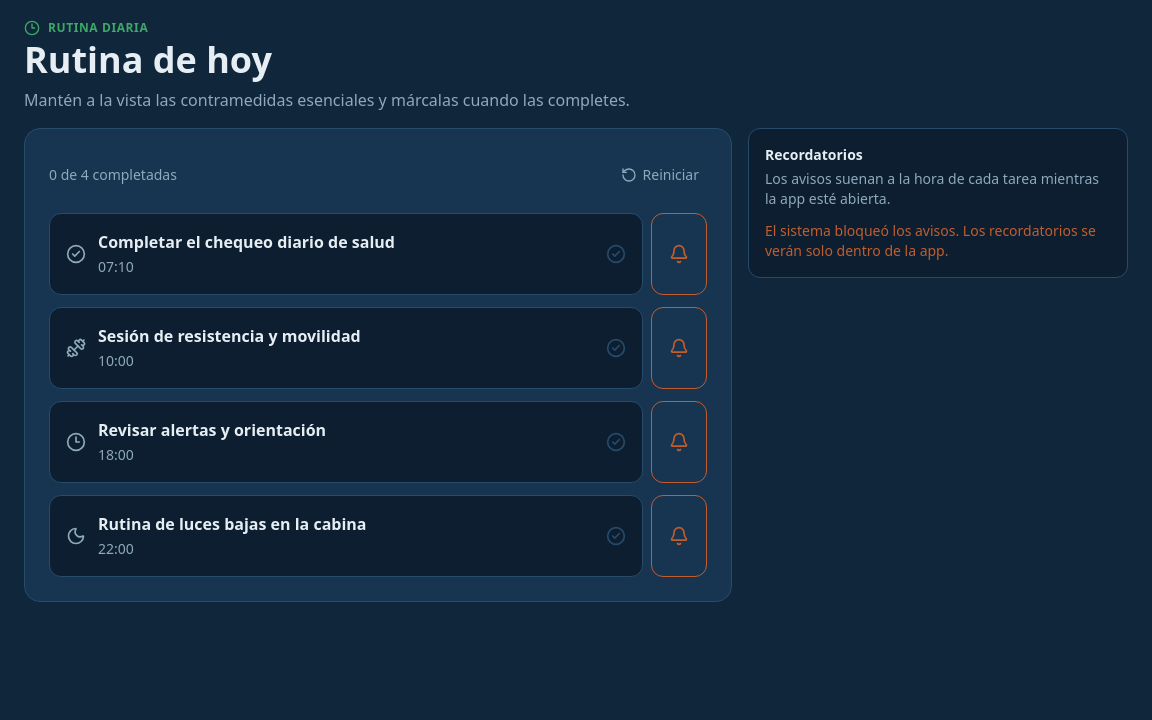
Test: pantallas › marca una tarea, la guarda y reinicia
The width and height of the screenshot is (1152, 720).
Click the text "Completar el chequeo diario de salud". click: (246, 242)
box: top-left (98, 231), bottom-right (395, 253)
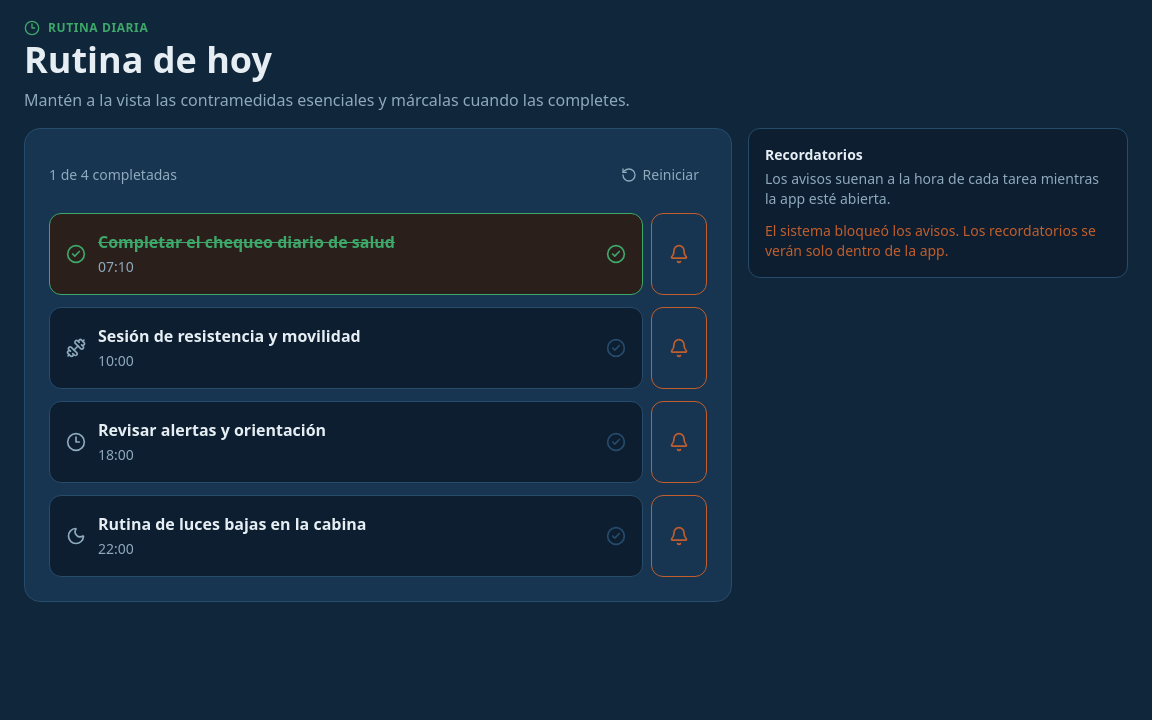
expect the text "1 de 4 completadas" is shown: met, box top-left (49, 165), bottom-right (177, 185)
Click the button "Reiniciar". click: (660, 175)
box: top-left (612, 153), bottom-right (707, 197)
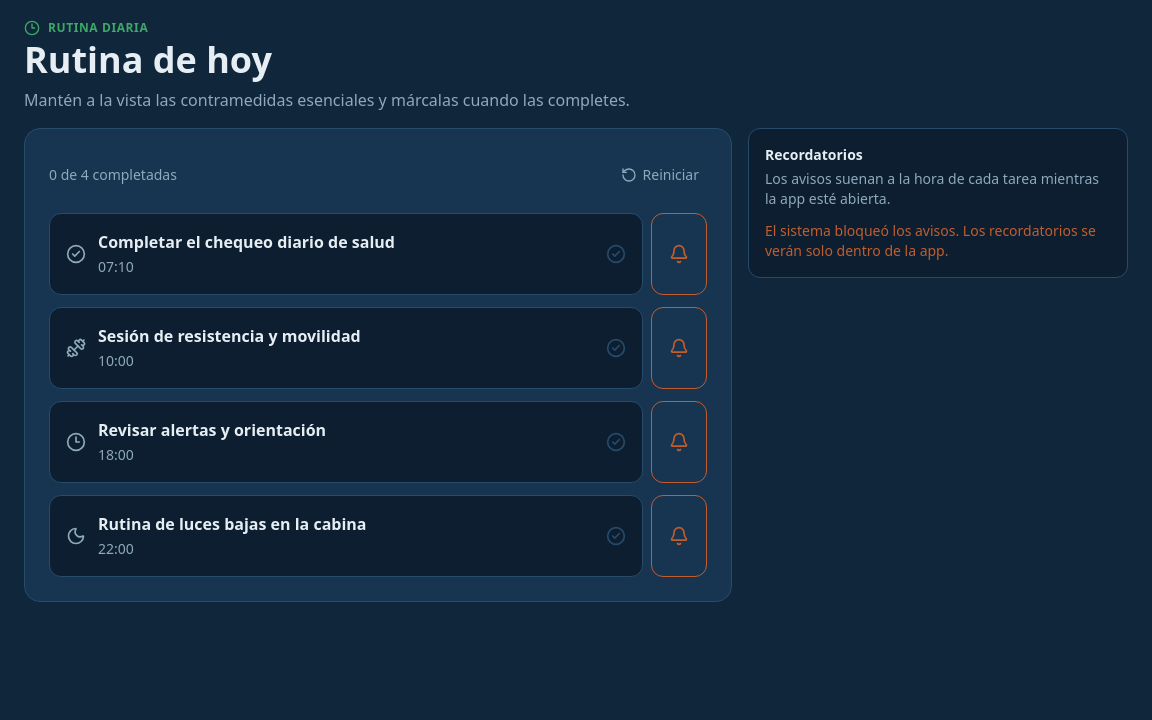
expect the text "0 de 4 completadas" is shown: met, box top-left (49, 165), bottom-right (177, 185)
